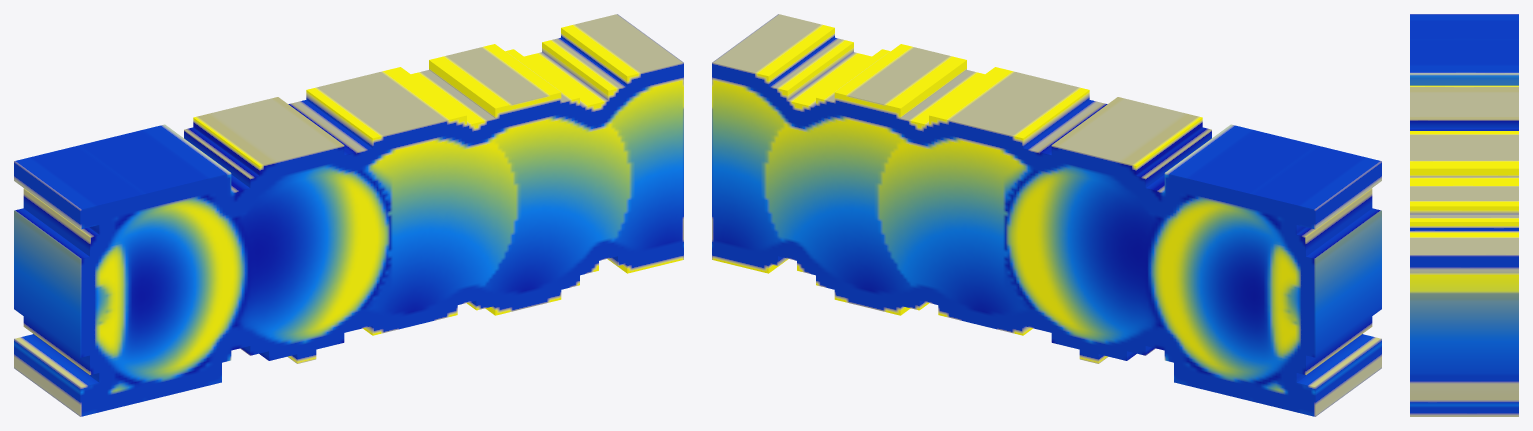
Rendered from Pede.glb.
3 renders of one model, left to right at view 1: azimuth 30°, elevation 25°; view 2: azimuth 150°, elevation 25°; view 3: azimuth 270°, elevation 25°, orthographic. The views are drawn at different scales.
Visible parts, largest first — view 1: NEOPEDELEFT_voxel; view 2: NEOPEDELEFT_voxel; view 3: NEOPEDELEFT_voxel.
Part boxes in pixels (x1=…): NEOPEDELEFT_voxel: x1=14, y1=14, x2=683, y2=416; NEOPEDELEFT_voxel: x1=712, y1=14, x2=1381, y2=416; NEOPEDELEFT_voxel: x1=1410, y1=14, x2=1518, y2=416.
Size of the model in its own units: 3.51 by 1.15 by 0.669.
Materials: 1 (1 with a texture image).
